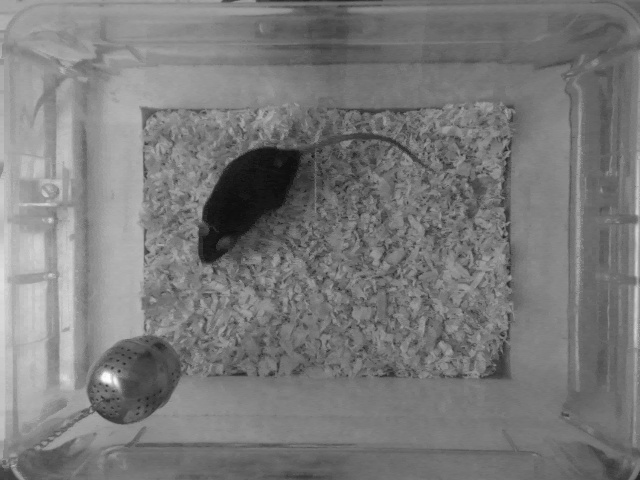mice: (193, 132, 423, 267)
